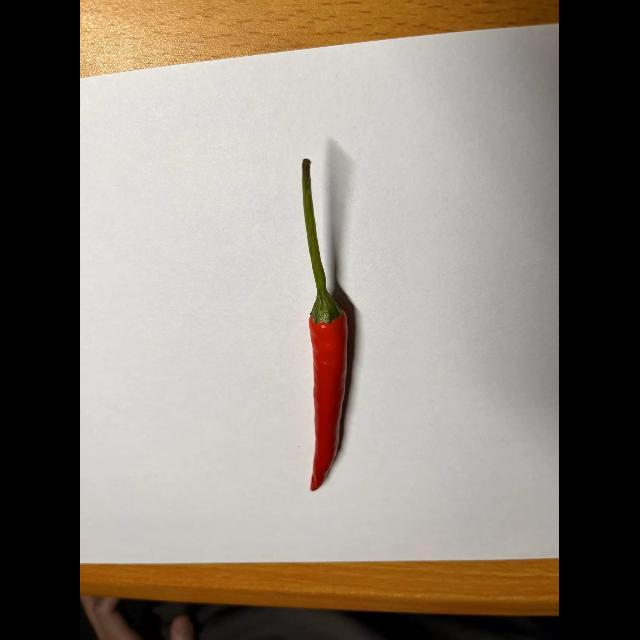chili_pepper: (281, 153, 368, 493)
